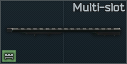Remington M700 extended multi-slot Weaver rail base: (0, 0, 127, 64)
